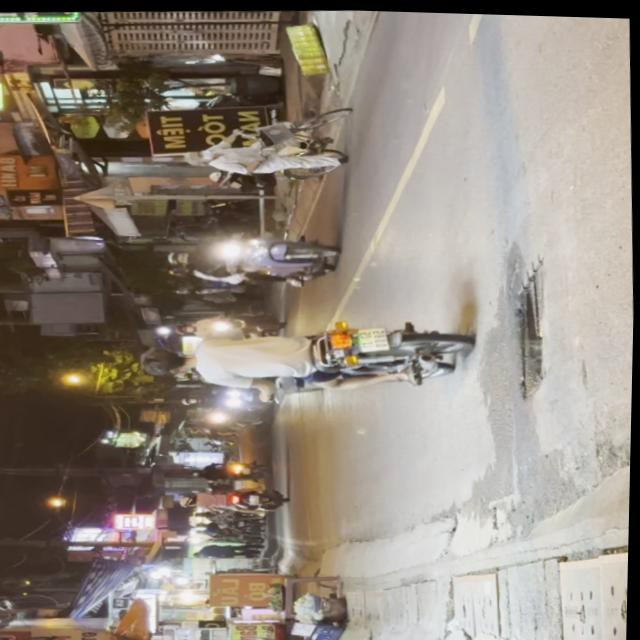helmet: (166, 246, 193, 262)
licenseplate: (135, 304, 473, 401), (163, 225, 343, 288)
motorcyclist: (139, 342, 192, 374)
nohelmet: (358, 322, 391, 349)
